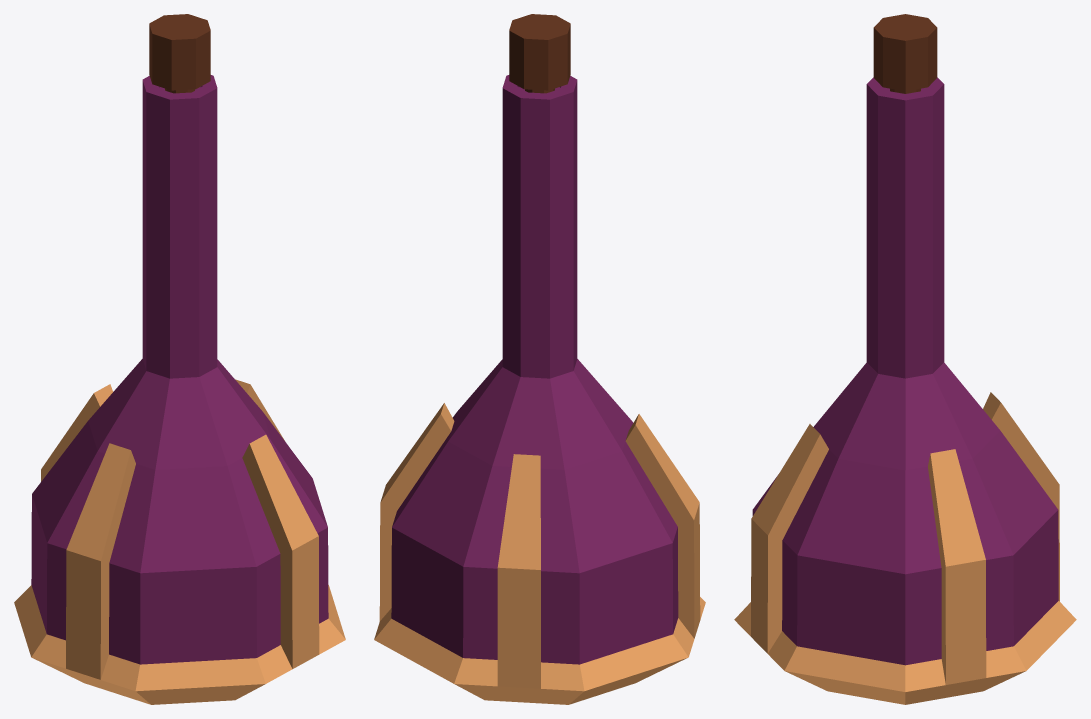
The model's file is potion_pink.glb.
The picture shows the model from 3 angles, left to right: view 1: azimuth 30°, elevation 25°; view 2: azimuth 150°, elevation 25°; view 3: azimuth 270°, elevation 25°; orthographic projection.
Visible parts, largest first — view 1: Potion; view 2: Potion; view 3: Potion.
Boxes of the visible parts, box(x1,y1,x2,y2) form: Potion: box(14, 14, 345, 704); Potion: box(374, 14, 705, 704); Potion: box(734, 14, 1076, 704).
Size of the model in its own units: 0.5738 by 1.17 by 0.5738.
